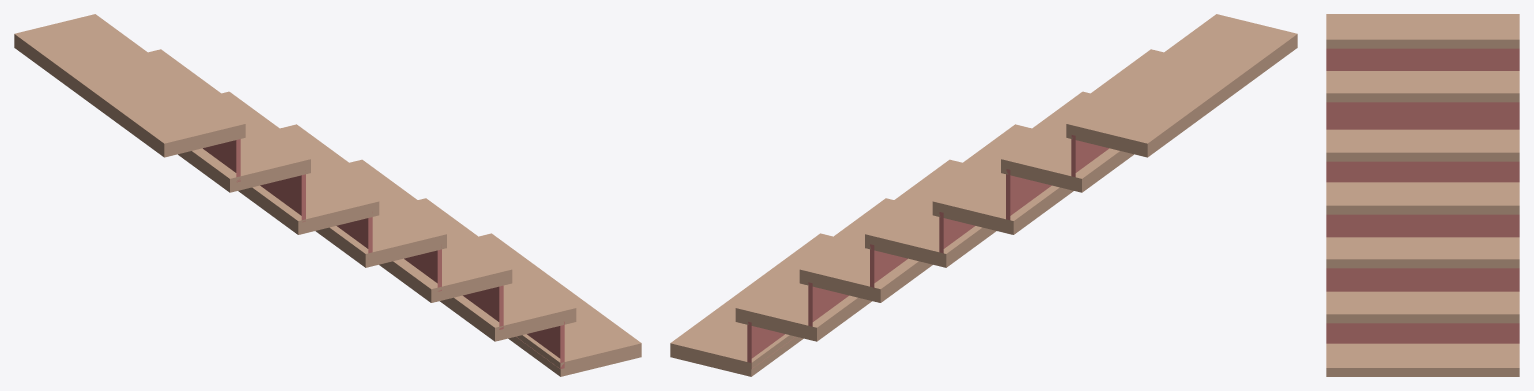
Rendered from HalfInteriorStaircase.fbx.
The picture shows the model from 3 angles, left to right: view 1: azimuth 30°, elevation 25°; view 2: azimuth 150°, elevation 25°; view 3: azimuth 270°, elevation 25°; orthographic projection. The views are drawn at different scales.
Parts seen in each view (by area): view 1: Stairs_LOD0; view 2: Stairs_LOD0; view 3: Stairs_LOD0.
Boxes of the visible parts, x1,y1,x2,y2 form: Stairs_LOD0: [14, 14, 641, 376]; Stairs_LOD0: [670, 14, 1297, 376]; Stairs_LOD0: [1326, 14, 1519, 376].
Size of what is drawn, in the model's own units: 149 by 98.71 by 81.4.
